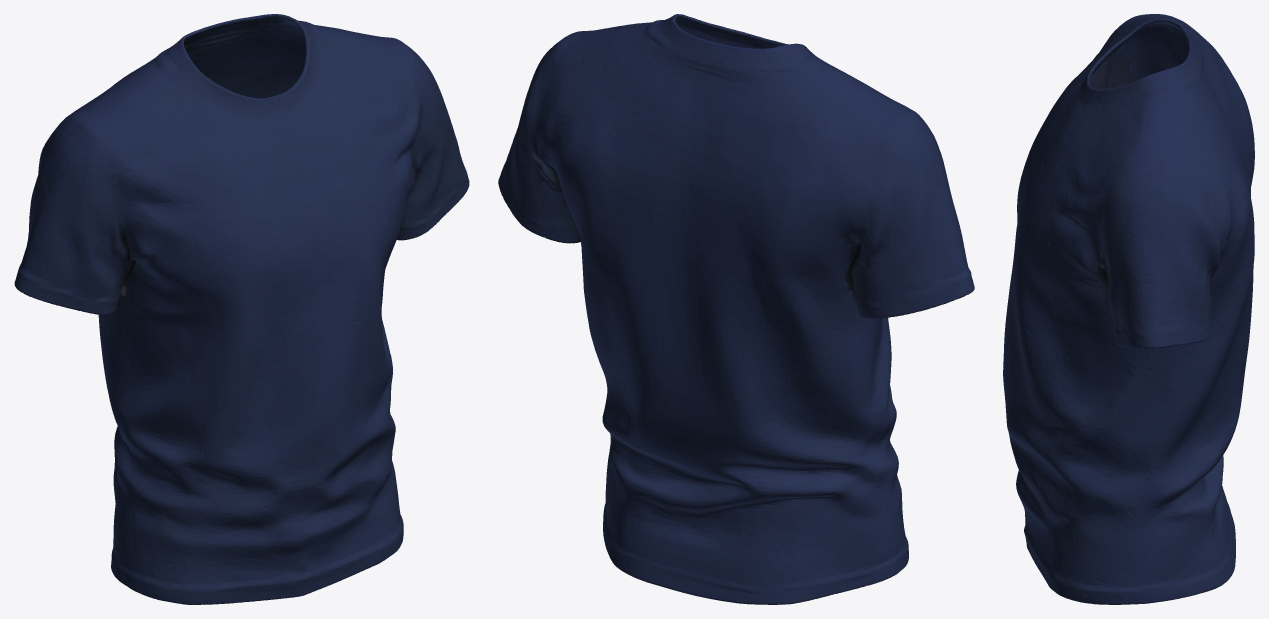
Rendered from shirt_baked22.glb.
The picture shows the model from 3 angles, left to right: view 1: azimuth 30°, elevation 25°; view 2: azimuth 150°, elevation 25°; view 3: azimuth 270°, elevation 25°; orthographic projection. The views are drawn at different scales.
Parts seen in each view (by area): view 1: world; view 2: world; view 3: world.
Part boxes in pixels (box(x1,y1,x2,y2)): world: box(14, 14, 469, 604); world: box(498, 14, 974, 604); world: box(1003, 14, 1254, 604).
Size of the model in its own units: 1.83 by 1.99 by 0.9005.
Materials: 1 (1 with a texture image).
